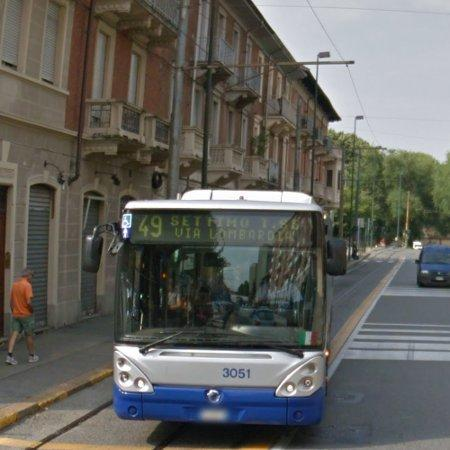buses: (113, 190, 345, 427)
